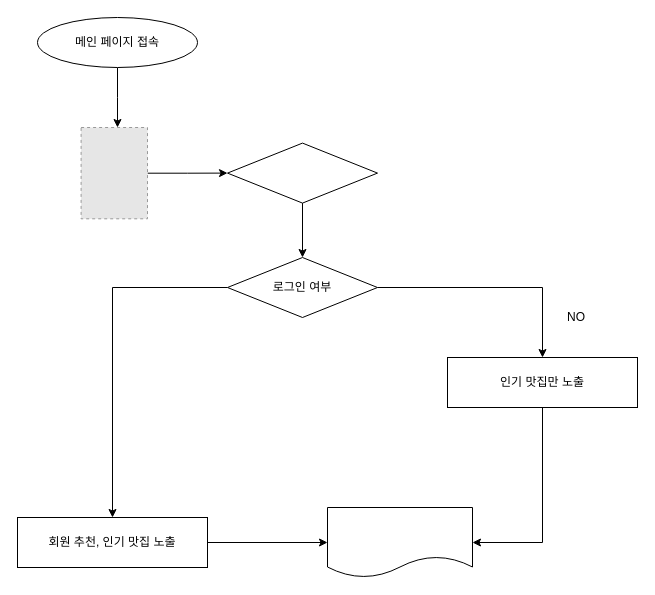
Some shapes in this 655 by 595 pixel diagram are drawn without their labels. Grey dashed boxes stand in for pictures. Each missing label, with the centre of its shape:
메인 페이지: (x=399, y=542)
평점 3.5 이상 음식점: (x=302, y=172)
